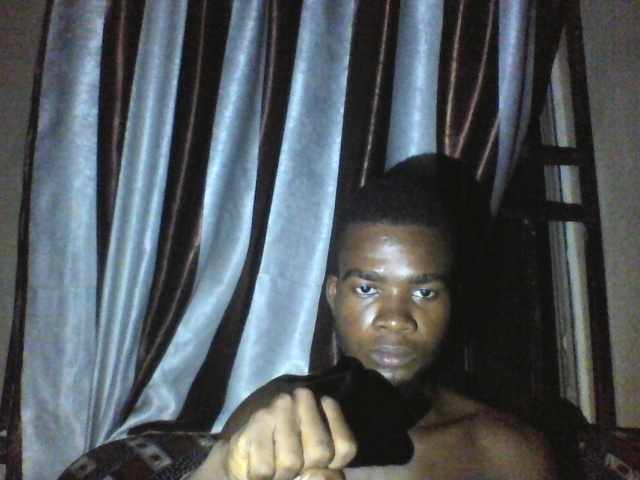yes: (225, 378, 375, 480)
